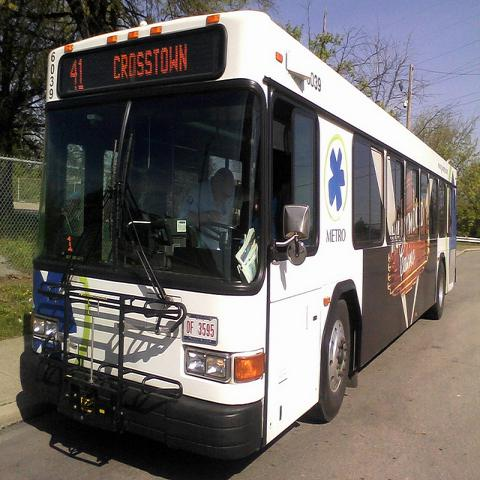bus: (18, 8, 458, 462)
